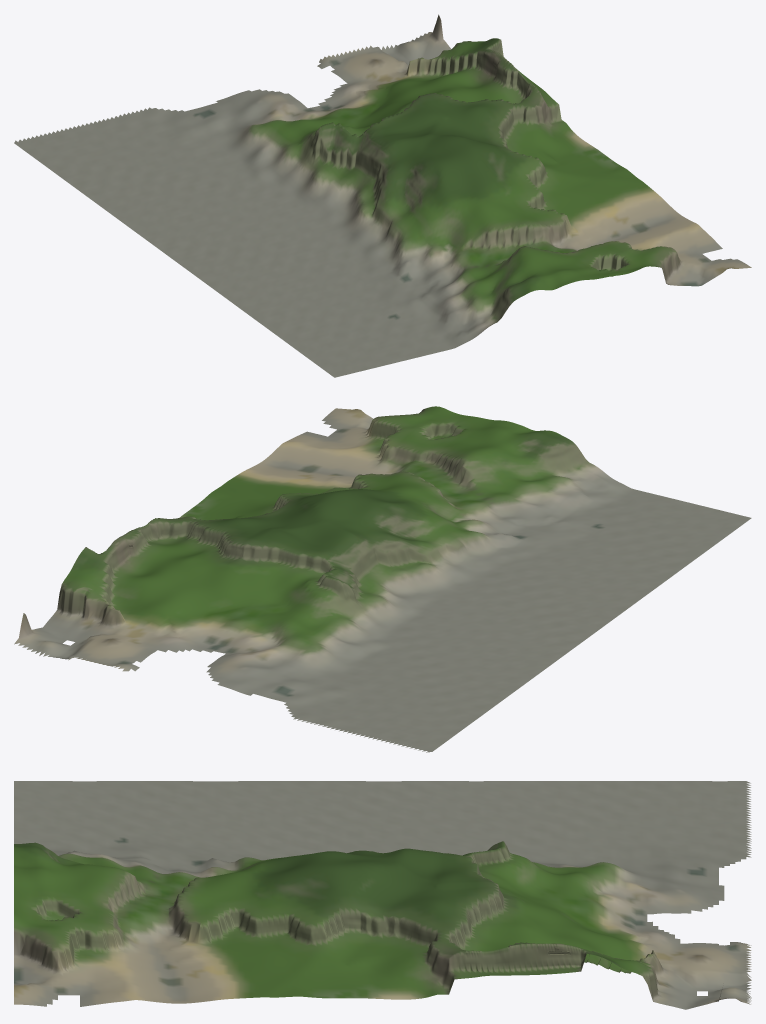
Rendered from coast_tile_x0z2.glb.
3 views of the same model, one above another, from view 1: azimuth 30°, elevation 25°; view 2: azimuth 150°, elevation 25°; view 3: azimuth 270°, elevation 25° (orthographic). The views are drawn at different scales.
Visible parts, largest first — view 1: coast_tile_x0z2; view 2: coast_tile_x0z2; view 3: coast_tile_x0z2.
Boxes of the visible parts, x1,y1,x2,y2 form: coast_tile_x0z2: (14, 14, 751, 377); coast_tile_x0z2: (14, 406, 751, 752); coast_tile_x0z2: (14, 781, 751, 1009).
Bounding box in the file's own units: 600 × 82.37 × 804.
